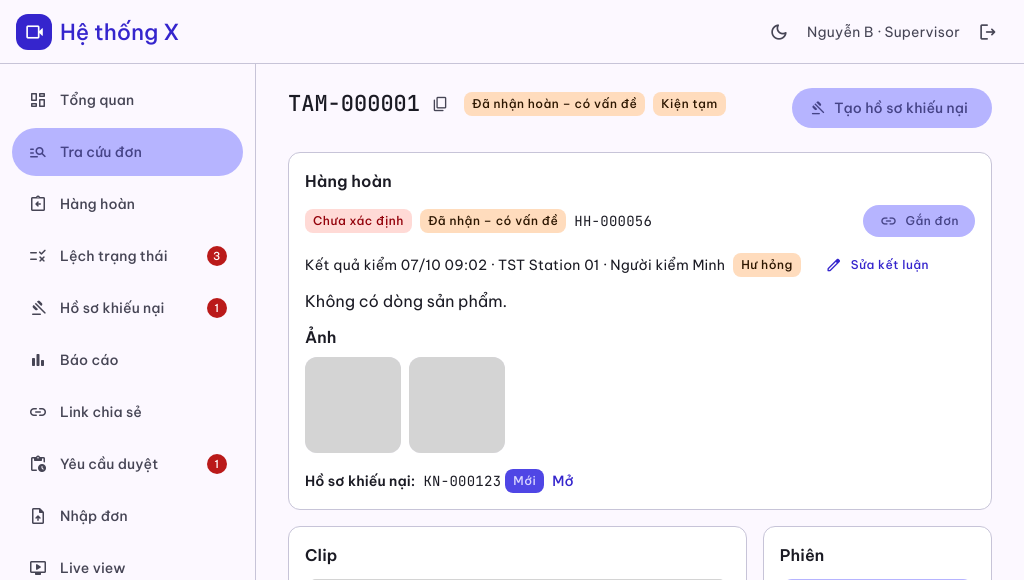
Test: UC-13: đơn nhiều kiện → chọn kiện (radio); kiện có hồ sơ mở → 'Sẽ gộp vào HH-…'
Click the button "Gắn đơn" at coordinates (919, 221), box [864,205,975,237]
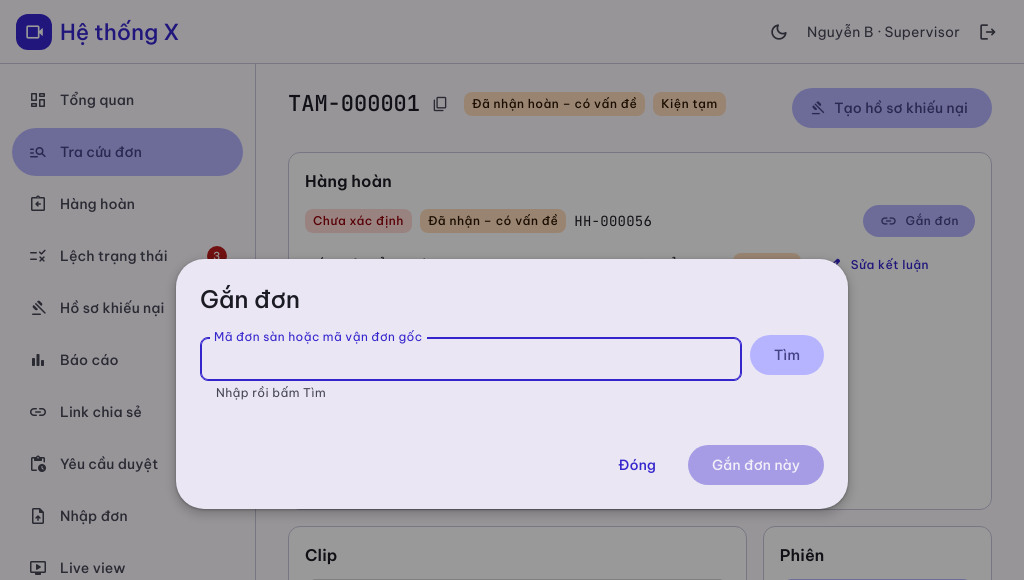
Type "2410TST00047" into the field labelled "Mã đơn sàn hoặc mã vận đơn gốc" at coordinates (471, 359), box [200,337,742,381]
Then press Enter
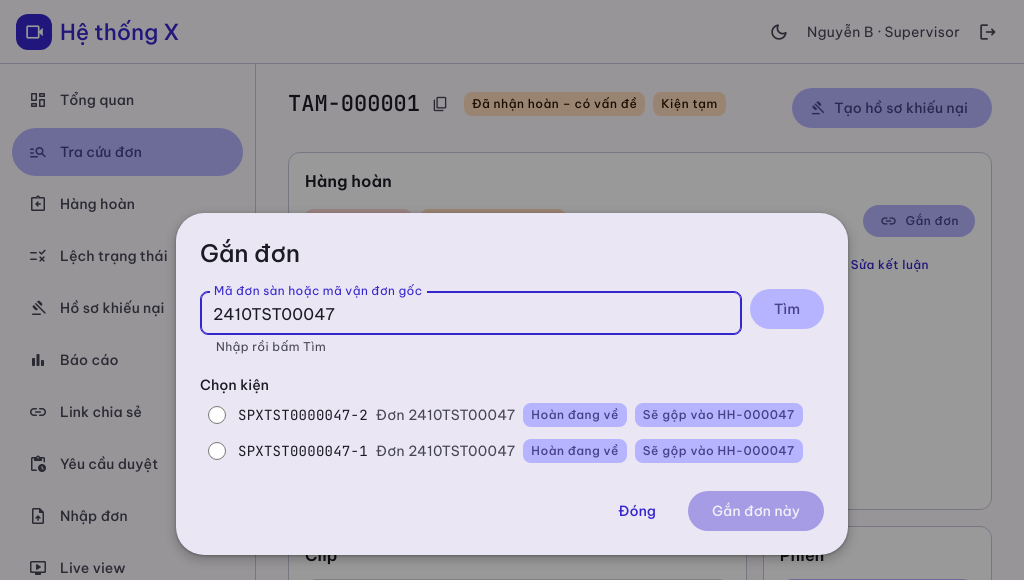
expect the button "Gắn đơn này" is disabled: met, box [688,491,824,531]
expect the number of radio buttons is 2: met
expect the text "Sẽ gộp vào HH-000047" is shown 2 times: met, box [643,407,795,423]; [643,443,795,459]
Click the radio button labelled "SPXTST0000047-2" at coordinates (217, 415), box [208,406,226,424]
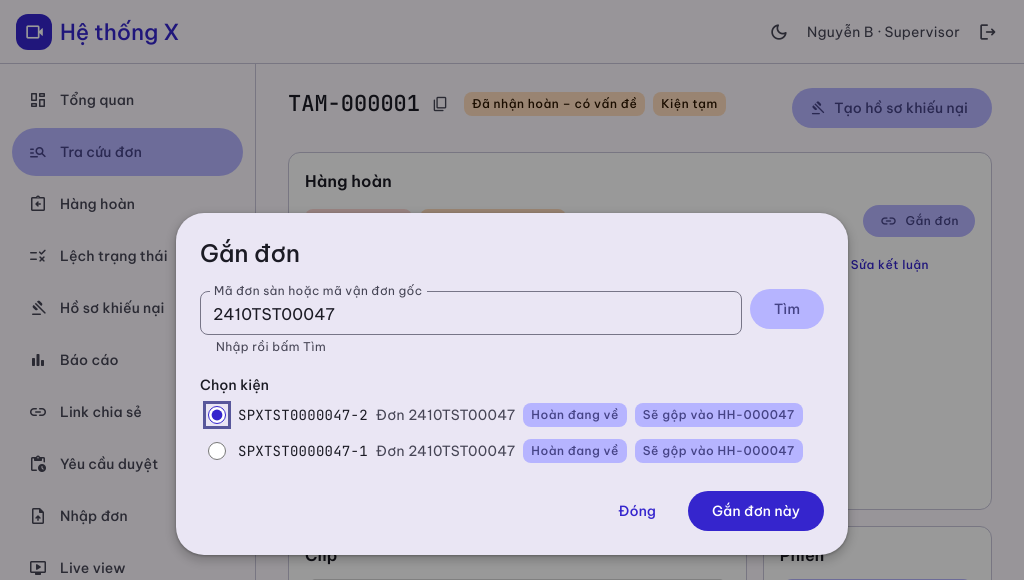
expect the button "Gắn đơn này" is enabled: met, box [688,491,824,531]
